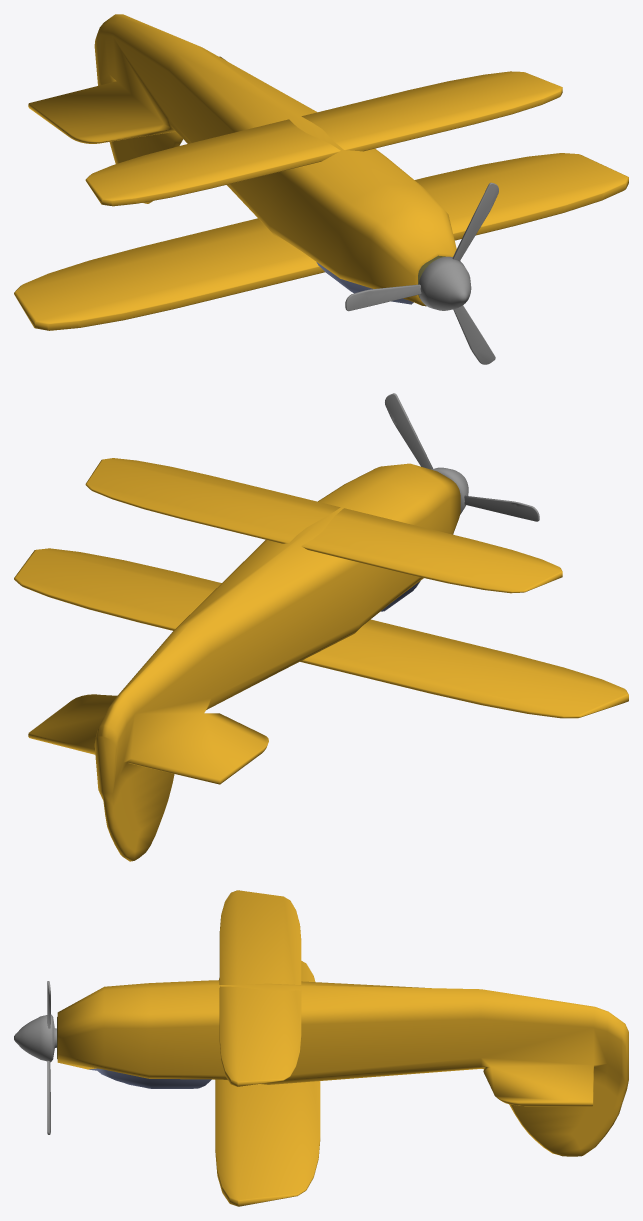
The picture shows the model from 3 angles, top to bottom: view 1: azimuth 30°, elevation 25°; view 2: azimuth 150°, elevation 25°; view 3: azimuth 270°, elevation 25°; orthographic projection. The views are drawn at different scales.
Parts seen in each view (by area): view 1: Plane, Окружность; view 2: Plane, Окружность; view 3: Plane, Окружность.
Boxes of the visible parts, x1,y1,x2,y2 form: Plane: [14, 14, 628, 330]; Окружность: [345, 182, 498, 364]; Plane: [14, 458, 628, 861]; Окружность: [385, 393, 539, 521]; Plane: [57, 890, 628, 1206]; Окружность: [14, 981, 56, 1134].
Size of the model in its own units: 4.54 by 1.67 by 4.76.
